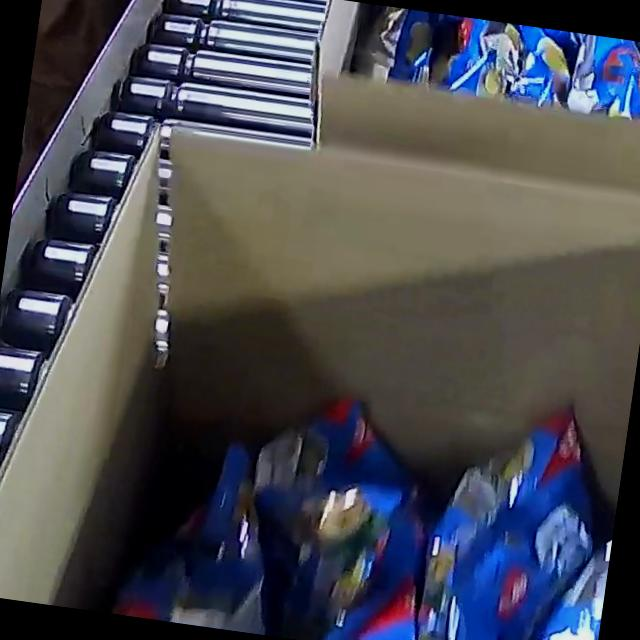paprika: (41, 332, 630, 640), (361, 4, 640, 125)
